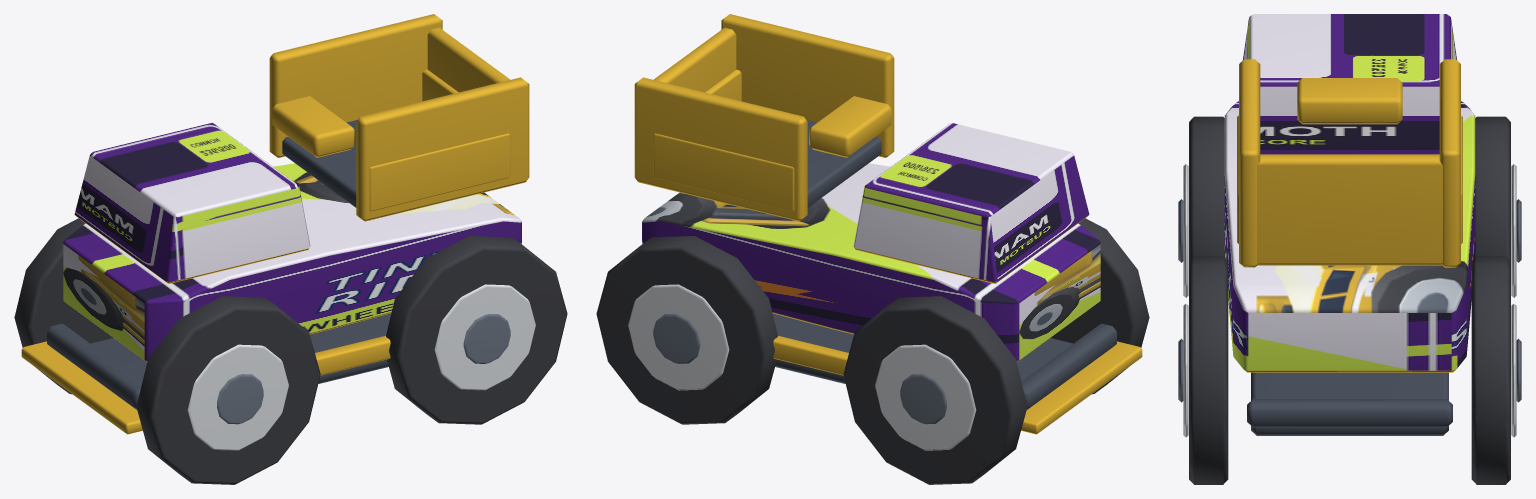
3 renders of one model, left to right at view 1: azimuth 30°, elevation 25°; view 2: azimuth 150°, elevation 25°; view 3: azimuth 270°, elevation 25°, orthographic. The views are drawn at different scales.
Parts seen in each view (by area): view 1: BW-04_connected_shell, BW-04_cabin, Tire, Tire.002, raised tipper wall, raised tipper wall.001, cargo side, Rim, Rim.002, Tire.001, custom chin, custom equipment (+8 smaller); view 2: BW-04_connected_shell, BW-04_cabin, Tire.001, Tire.003, raised tipper wall.001, raised tipper wall, cargo side.001, Rim.001, Rim.003, Tire, custom chin, custom equipment (+8 smaller); view 3: BW-04_connected_shell, BW-04_cabin, raised tail gate, Tire.002, Tire.003, underbody, rear bumper, Tire, Tire.001, custom equipment, raised tipper wall, raised tipper wall.001 (+6 smaller).
Boxes of the visible parts, x1=… form: BW-04_connected_shell: x1=63, y1=163, x2=521, y2=361; BW-04_cabin: x1=74, y1=122, x2=310, y2=283; Tire: x1=136, y1=296, x2=320, y2=484; Tire.002: x1=386, y1=236, x2=567, y2=424; raised tipper wall: x1=356, y1=77, x2=529, y2=221; raised tipper wall.001: x1=269, y1=14, x2=442, y2=157; cargo side: x1=369, y1=133, x2=510, y2=211; Rim: x1=187, y1=344, x2=288, y2=450; Rim.002: x1=434, y1=284, x2=535, y2=390; Tire.001: x1=14, y1=218, x2=113, y2=394; custom chin: x1=21, y1=341, x2=142, y2=434; custom equipment: x1=272, y1=96, x2=354, y2=157; BW-04_connected_shell: x1=642, y1=163, x2=1100, y2=361; BW-04_cabin: x1=853, y1=122, x2=1089, y2=283; Tire.001: x1=843, y1=296, x2=1027, y2=484; Tire.003: x1=596, y1=236, x2=777, y2=424; raised tipper wall.001: x1=634, y1=77, x2=807, y2=221; raised tipper wall: x1=721, y1=14, x2=894, y2=157; cargo side.001: x1=653, y1=133, x2=794, y2=211; Rim.001: x1=875, y1=344, x2=976, y2=450; Rim.003: x1=628, y1=284, x2=729, y2=390; Tire: x1=1050, y1=218, x2=1149, y2=394; custom chin: x1=1021, y1=341, x2=1142, y2=434; custom equipment: x1=809, y1=96, x2=891, y2=157; BW-04_connected_shell: x1=1224, y1=101, x2=1475, y2=372; BW-04_cabin: x1=1242, y1=14, x2=1457, y2=154; raised tail gate: x1=1257, y1=154, x2=1442, y2=265; Tire.002: x1=1189, y1=256, x2=1228, y2=484; Tire.003: x1=1471, y1=256, x2=1510, y2=484; underbody: x1=1251, y1=372, x2=1448, y2=435; rear bumper: x1=1247, y1=399, x2=1452, y2=427; Tire: x1=1189, y1=116, x2=1224, y2=260; Tire.001: x1=1475, y1=116, x2=1510, y2=260; custom equipment: x1=1297, y1=78, x2=1402, y2=124; raised tipper wall: x1=1239, y1=59, x2=1260, y2=267; raised tipper wall.001: x1=1439, y1=59, x2=1460, y2=267.
Bounding box in the file's own units: 378 × 264 × 227.
